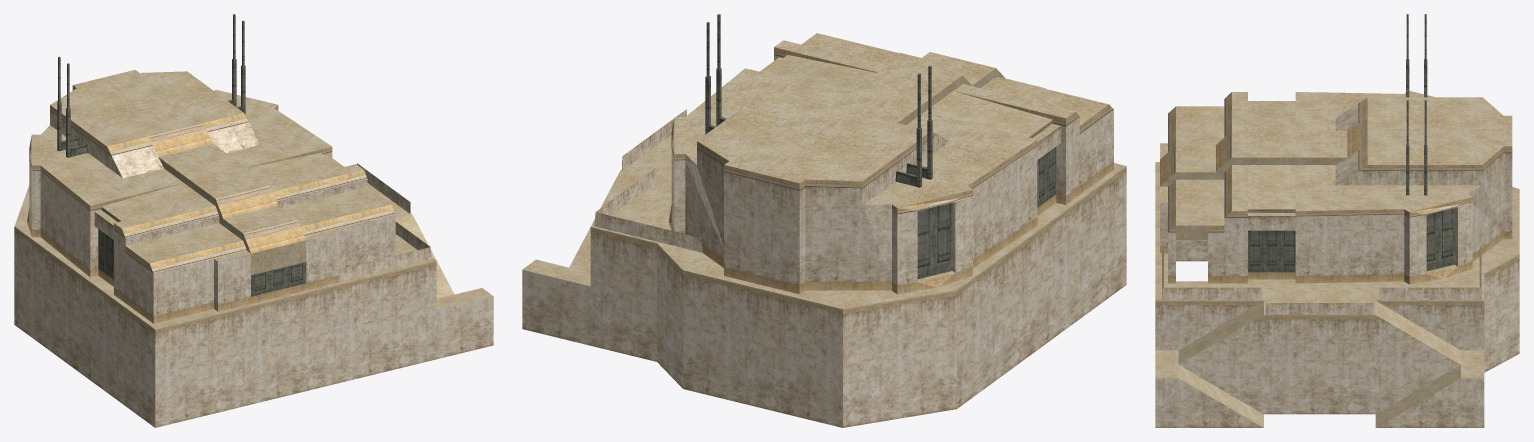
Rendered from ply_tato_hospital_s01_r0_exterior_mesh_l1.fbx.
The picture shows the model from 3 angles, left to right: view 1: azimuth 30°, elevation 25°; view 2: azimuth 150°, elevation 25°; view 3: azimuth 270°, elevation 25°; orthographic projection. The views are drawn at different scales.
Parts seen in each view (by area): view 1: mesh_node; view 2: mesh_node; view 3: mesh_node.
Part boxes in pixels (box(x1,y1,x2,y2)): mesh_node: box(14, 14, 493, 427); mesh_node: box(522, 14, 1126, 427); mesh_node: box(1155, 14, 1519, 427).
Size of the model in its own units: 24.65 by 18.35 by 22.78.
